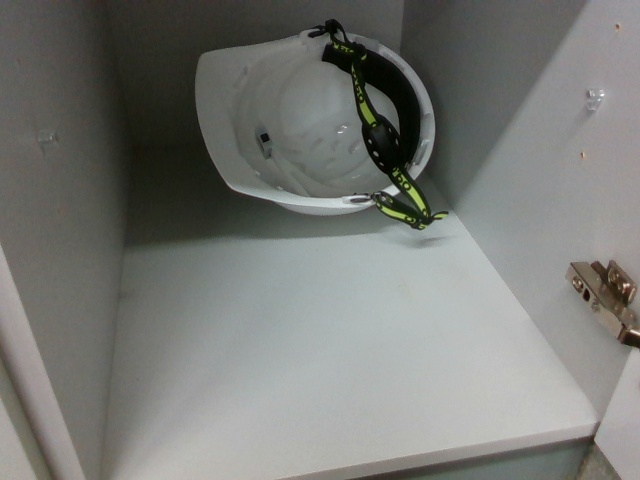helmet: (188, 22, 436, 220)
